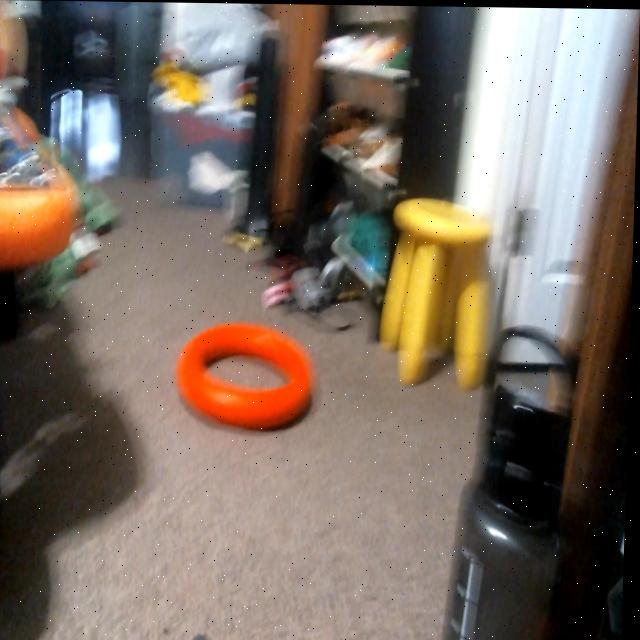note: (175, 313, 321, 430)
